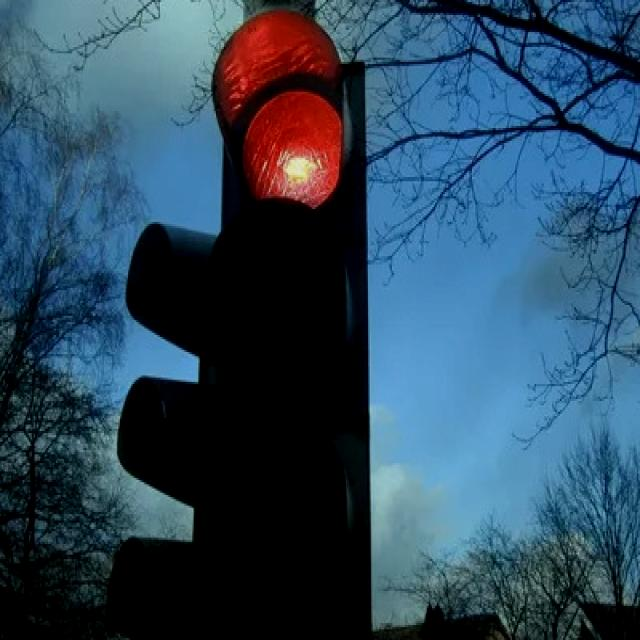kirmizi: (204, 12, 373, 640)
